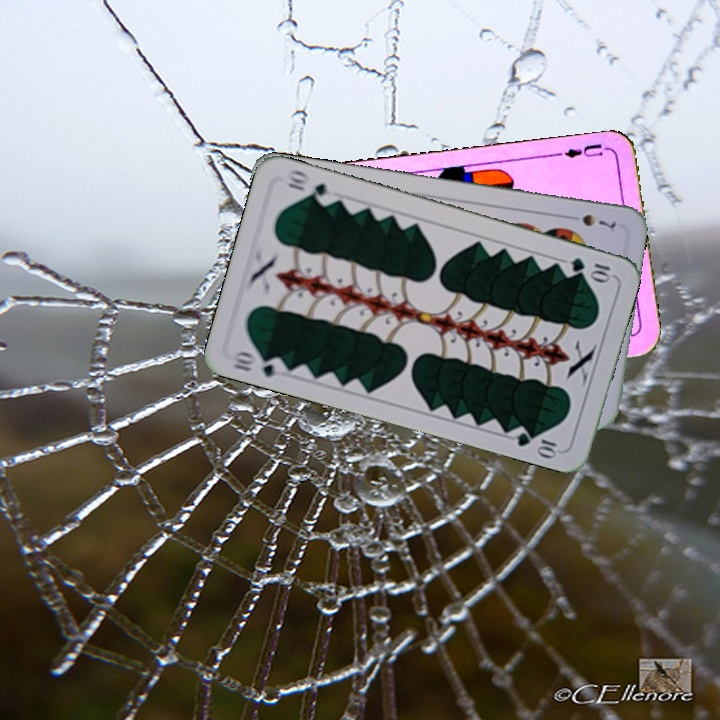EU: (554, 139, 614, 160)
G10: (228, 347, 288, 380), (566, 253, 613, 283)
S7: (563, 210, 619, 231)
